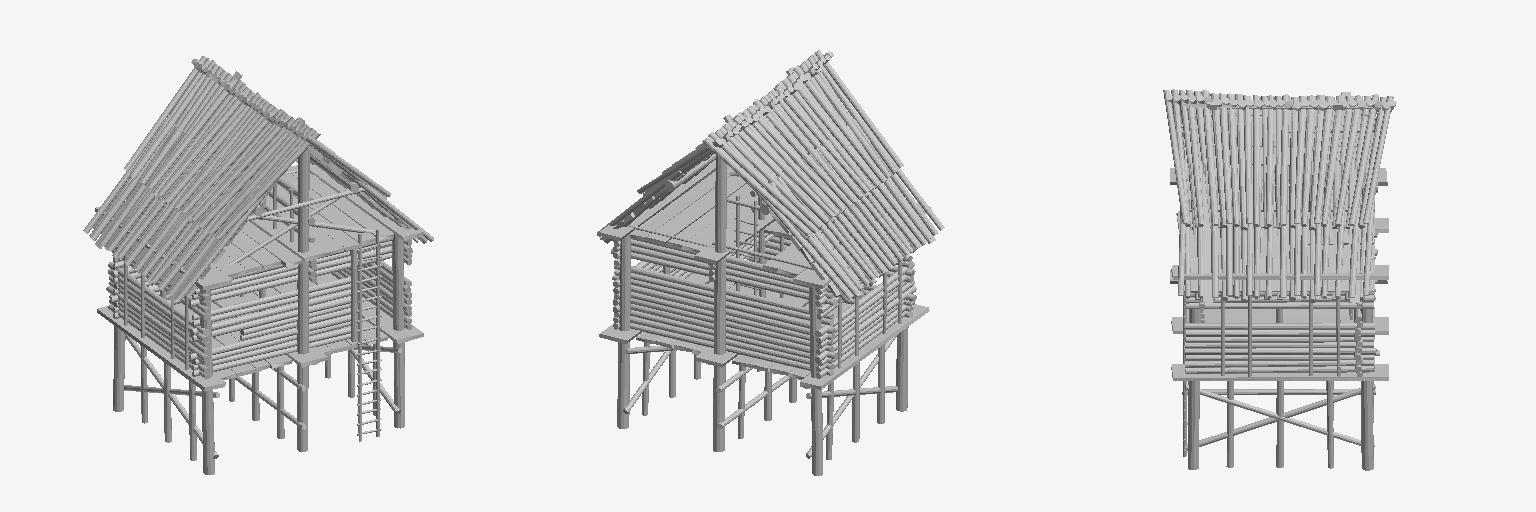
File: big_watchtower.obj
3 renders of one model, left to right at view 1: azimuth 30°, elevation 25°; view 2: azimuth 150°, elevation 25°; view 3: azimuth 270°, elevation 25°, orthographic.
Visible parts, largest first — view 1: barn.035_Cube.038, barn.025_Cube.030, barn.034_Cube.037; view 2: barn.035_Cube.038, barn.025_Cube.030, barn.032_Cube.032; view 3: barn.025_Cube.030, barn.035_Cube.038.
Part boxes in pixels (bbox=[...]): barn.035_Cube.038: bbox=[93, 71, 423, 474]; barn.025_Cube.030: bbox=[83, 56, 433, 301]; barn.034_Cube.037: bbox=[357, 229, 381, 441]; barn.035_Cube.038: bbox=[598, 67, 935, 475]; barn.025_Cube.030: bbox=[597, 50, 944, 302]; barn.032_Cube.032: bbox=[734, 195, 758, 308]; barn.025_Cube.030: bbox=[1163, 89, 1396, 302]; barn.035_Cube.038: bbox=[1170, 91, 1388, 470].
Size of the model in its own units: 31.14 by 37.91 by 24.46.